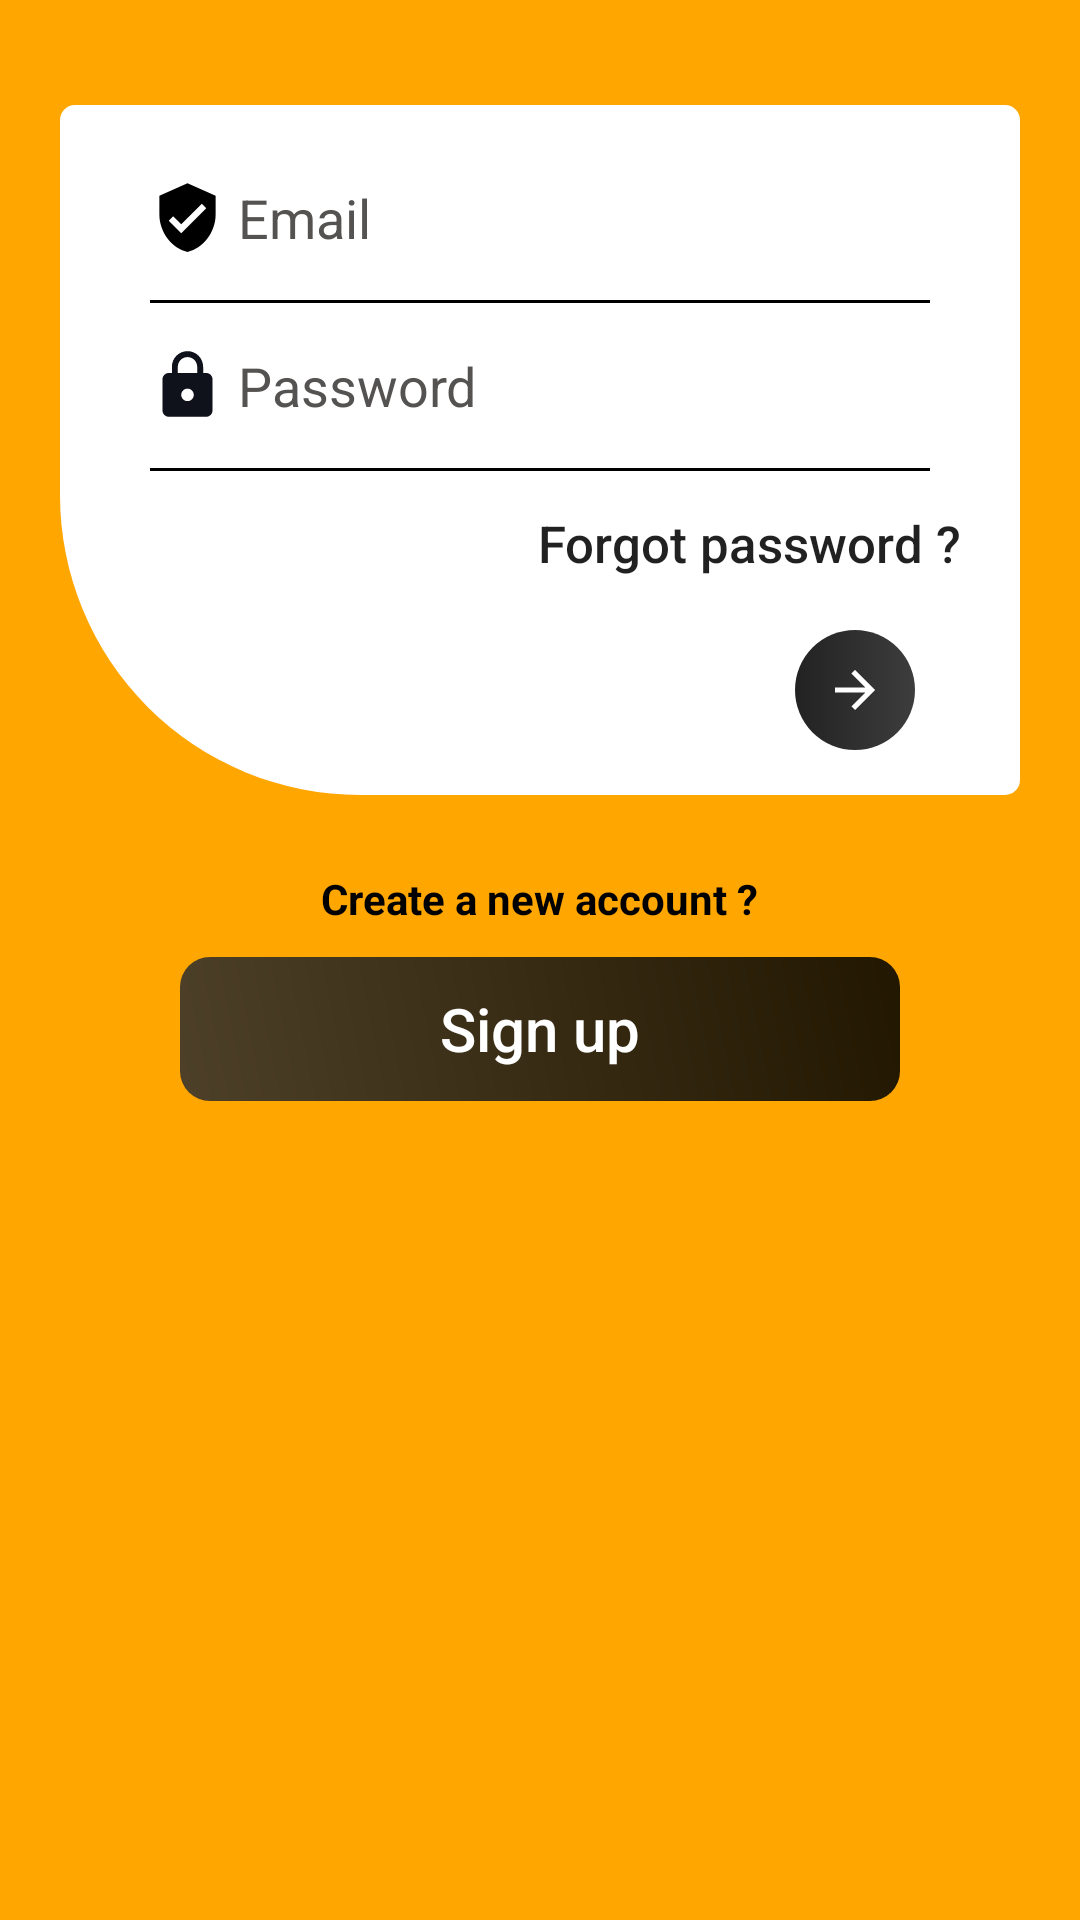

Named icons in this screenshot (1080 x 1920) and their centers, (x,y):
arrow forward: (855,690)
